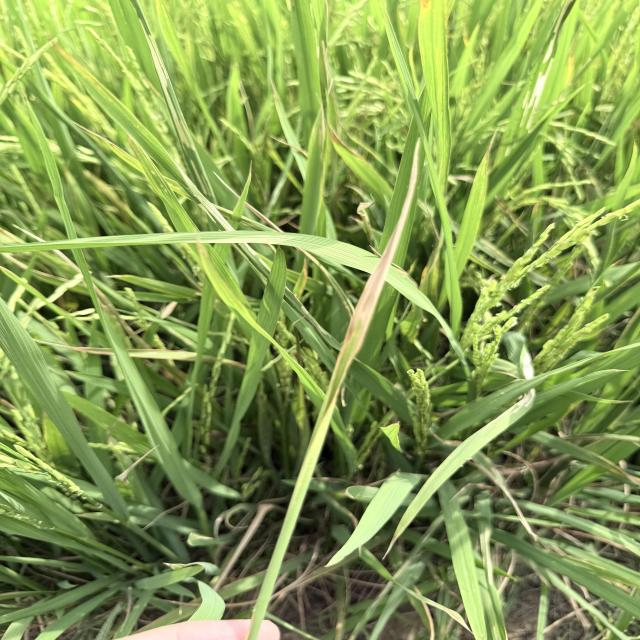Chay bia la: (326, 136, 418, 418)
